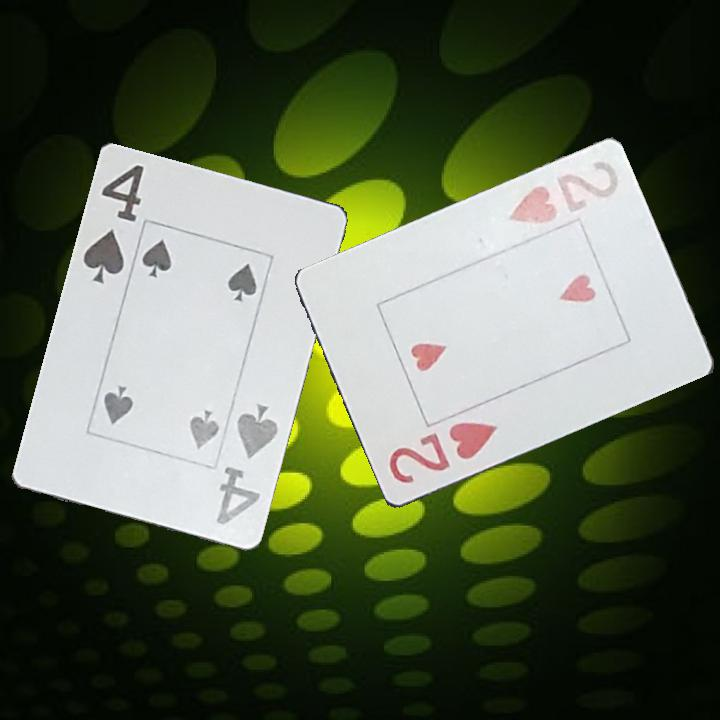2h: (504, 158, 625, 235), (385, 419, 501, 487)
4s: (212, 401, 281, 528), (78, 160, 147, 286)
